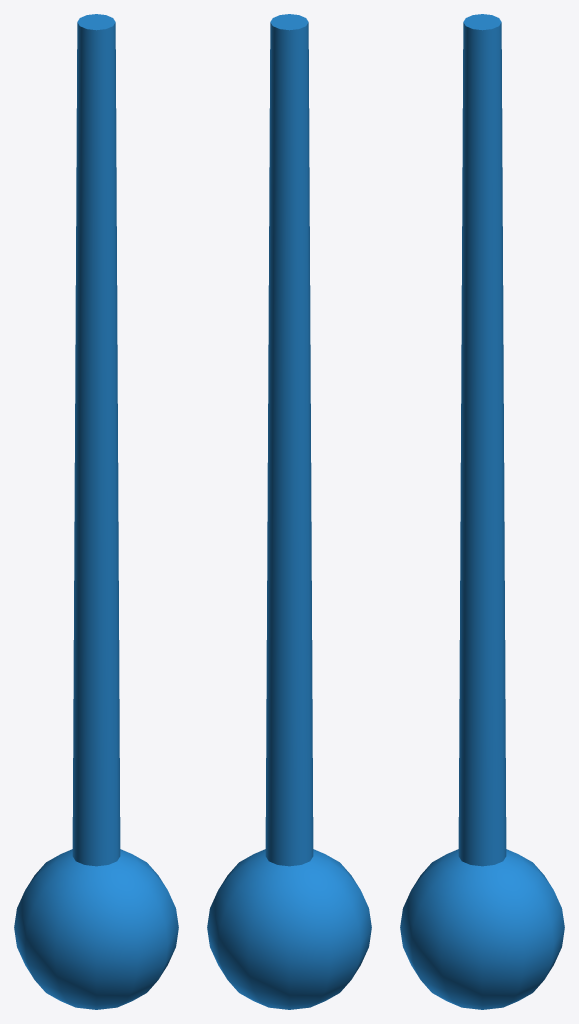
File: Obtacle_Ball_Blue.fbx
3 views of the same model, side by side, from view 1: azimuth 30°, elevation 25°; view 2: azimuth 150°, elevation 25°; view 3: azimuth 270°, elevation 25° (orthographic).
Visible parts, largest first — view 1: obtacle_ball_blue; view 2: obtacle_ball_blue; view 3: obtacle_ball_blue.
Boxes of the visible parts, left/top/right/bottom form: obtacle_ball_blue: left=14, top=14, right=178, bottom=1009; obtacle_ball_blue: left=207, top=14, right=371, bottom=1009; obtacle_ball_blue: left=400, top=14, right=564, bottom=1009.
Bounding box in the file's own units: 145 × 950 × 145.
1 material, 1 textured.
